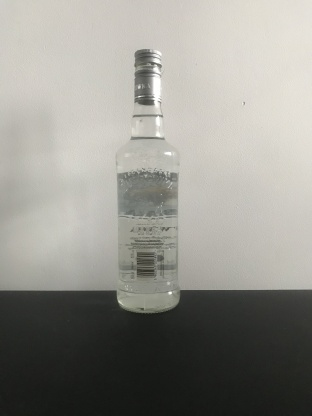nakretka: (132, 46, 163, 105)
